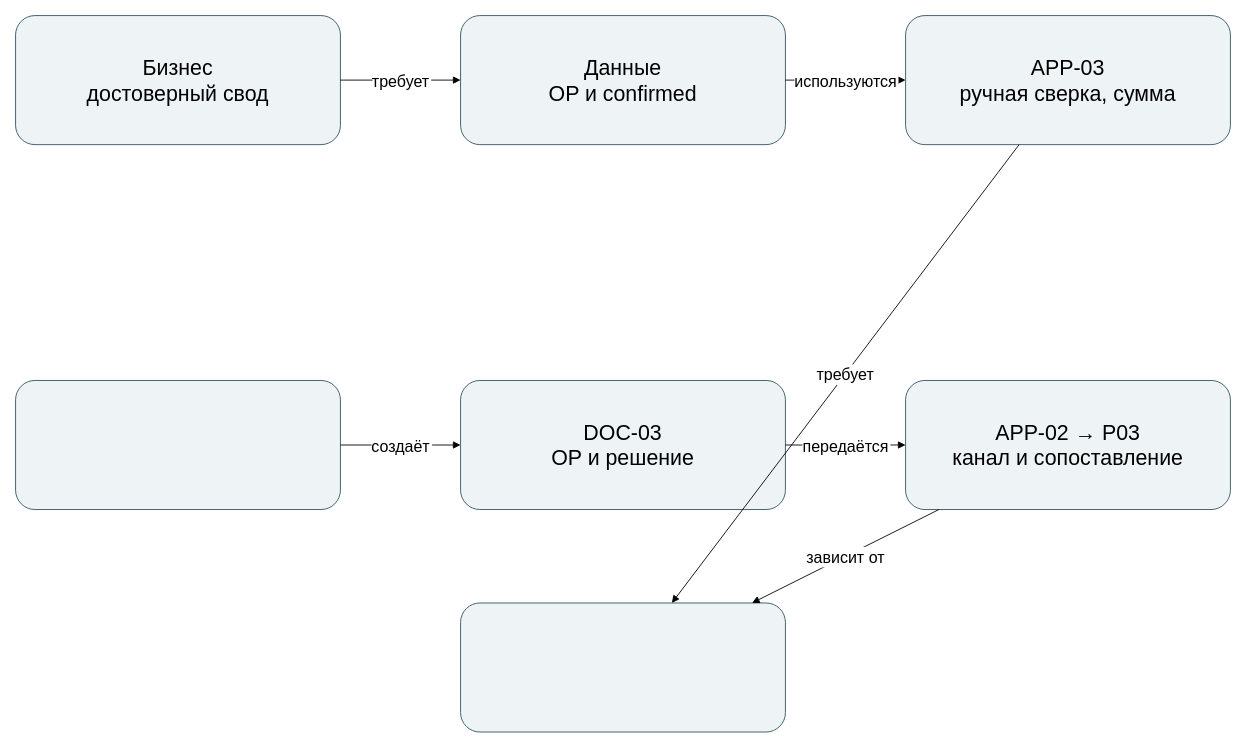
Some shapes in this 1246 by 748 pixel diagram are drawn without their labels. Here are the shapes that lost their labels. From the top down, the centre of each, then its label:
At pixel 177 445: "Бизнес подтверждение Р02".
At pixel 622 667: "T02/T03 и T04 средства и связь".
